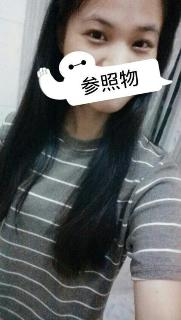short sleeve top: (0, 111, 181, 320)
